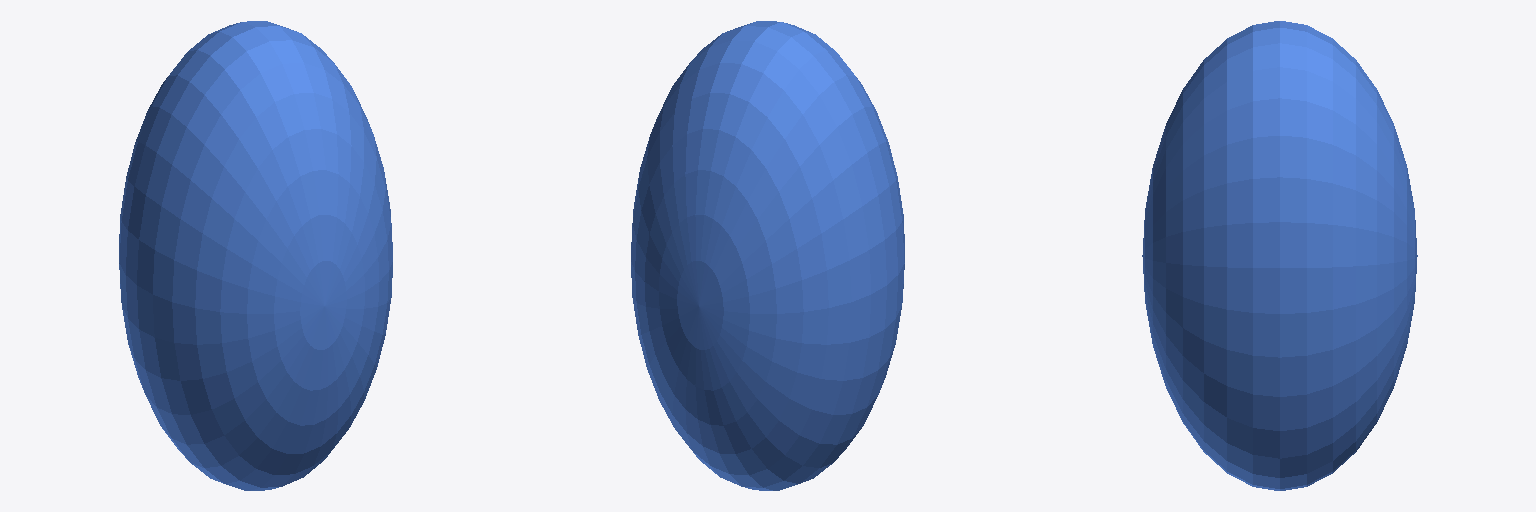
The robot description file, URDF, robot "fr3_link3_robot":
<?xml version="0.0" ?>
<robot name="fr3_link3_robot">
  <link name="base_link">
    <inertial>
      <origin rpy="0 0 0" xyz="0 0 0"/>
       <mass value=".1"/>
       <inertia ixx="1" ixy="0" ixz="0" iyy="1" iyz="0" izz="1"/>
    </inertial>
    
    <visual>
      <origin rpy="0 0 0" xyz="0 0 0.00"/>
      <geometry>
        <mesh filename="package://meshes/fr3_link3_ellipsoid.obj"/>
      </geometry>
      <material name="cornflowerblue">
        <color rgba="0.3921 0.5843 0.9294 0.8"/>
      </material>
    </visual>
  </link>
</robot>

--- Render facts (derived) ---
The picture shows the robot from 3 angles, left to right: view 1: azimuth 30°, elevation 25°; view 2: azimuth 150°, elevation 25°; view 3: azimuth 270°, elevation 25°; orthographic projection.
Model fr3_link3_robot with 1 links and 0 joints (none), rooted at base_link, posed every joint at zero.
Links seen in each view (by area): view 1: base_link; view 2: base_link; view 3: base_link.
Boxes of the visible links, x1,y1,x2,y2 form: base_link: [119, 21, 392, 490]; base_link: [631, 21, 904, 490]; base_link: [1142, 21, 1417, 490].
Size in the robot's own frame: 0.18 by 0.18 by 0.33 metres.
Meshes: 1 distinct files referenced, 1 mesh visuals loaded (1 OBJ).